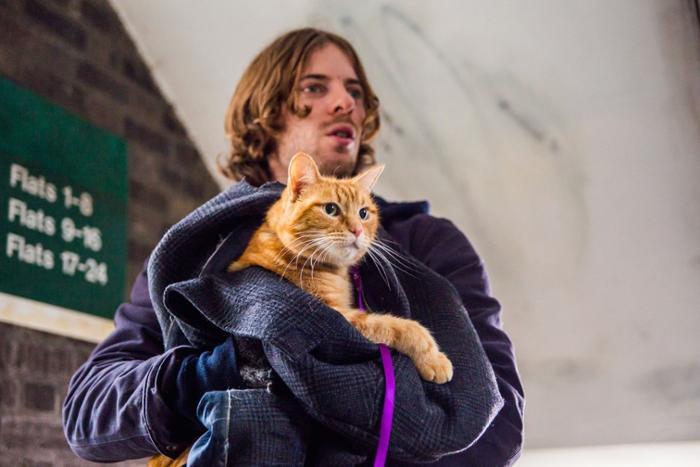cat: (232, 152, 465, 393)
cat-face: (272, 150, 391, 277)
